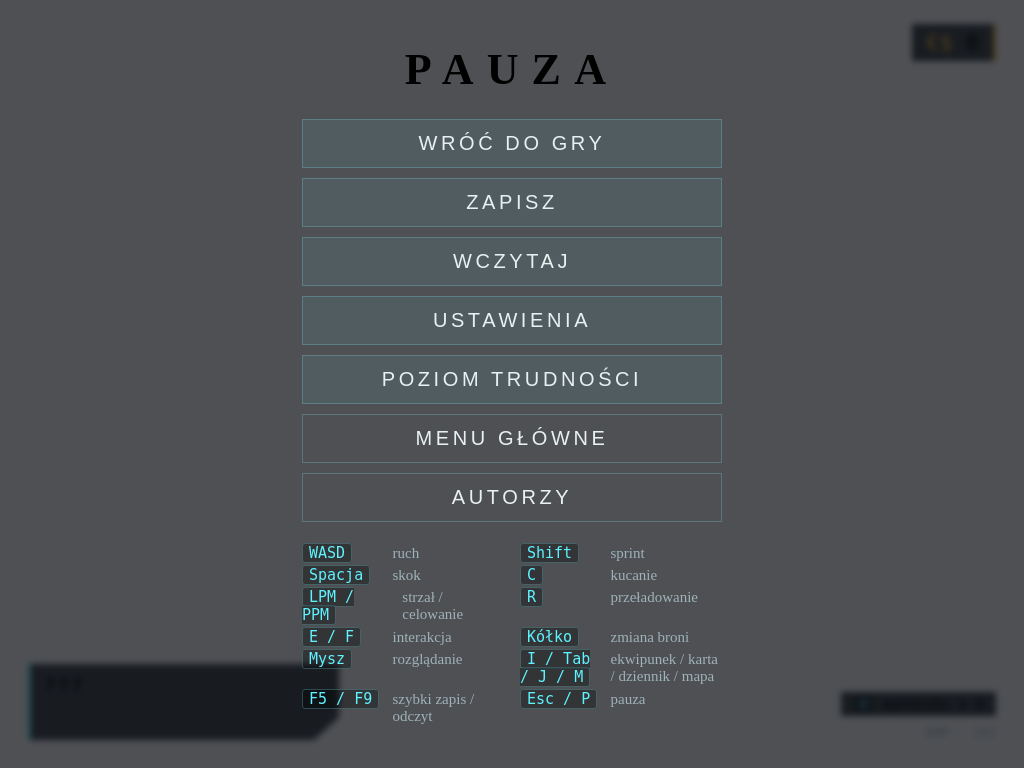
Test: language of the menus › rounds the sensitivity values as before and changes only the separator
Step 1. Click the button "Ustawienia" → (512, 320), box [302, 296, 722, 344]
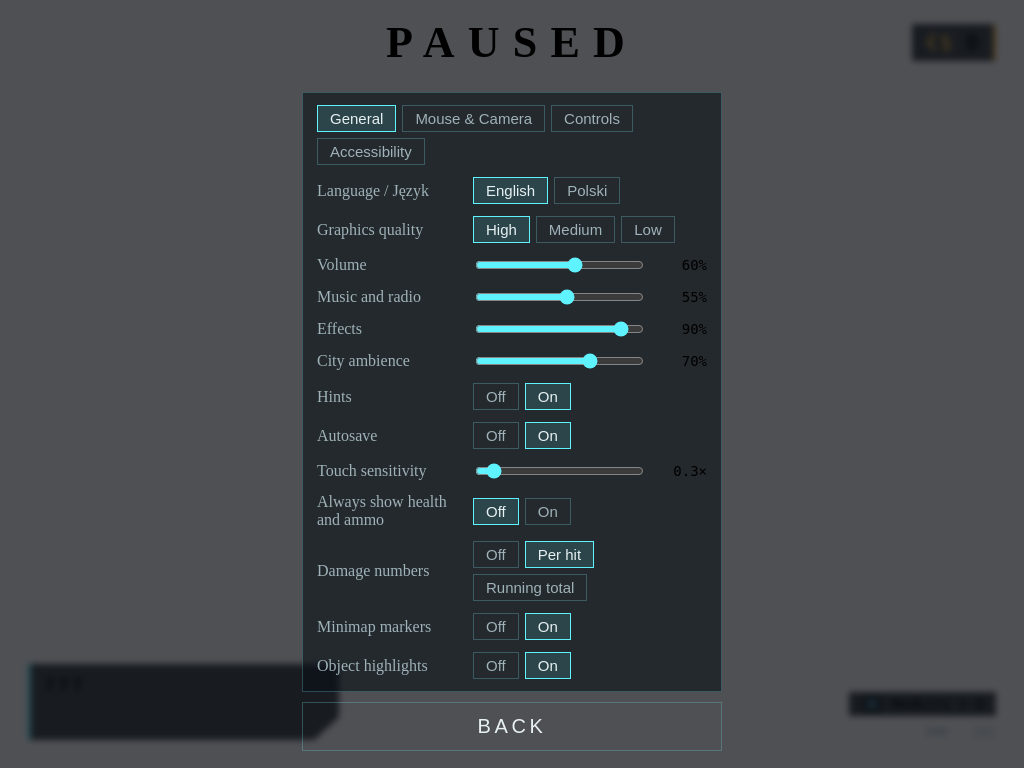
Expected: the text "0.3×" is shown, [673, 463, 707, 479]
